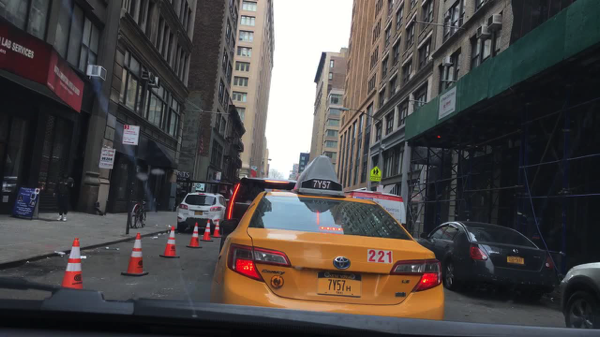bike: (132, 198, 147, 229)
car: (210, 154, 445, 320), (417, 220, 557, 302), (220, 175, 296, 254), (558, 260, 598, 329), (176, 191, 226, 233)
person: (52, 170, 75, 220)
traffic sign: (370, 166, 381, 183)
truck: (345, 187, 405, 229)
